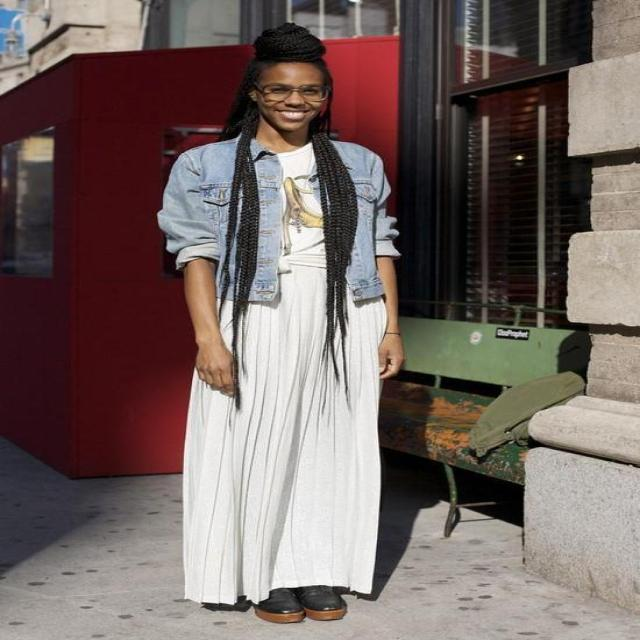skirt: (183, 254, 386, 606)
sweater: (161, 131, 400, 304)
